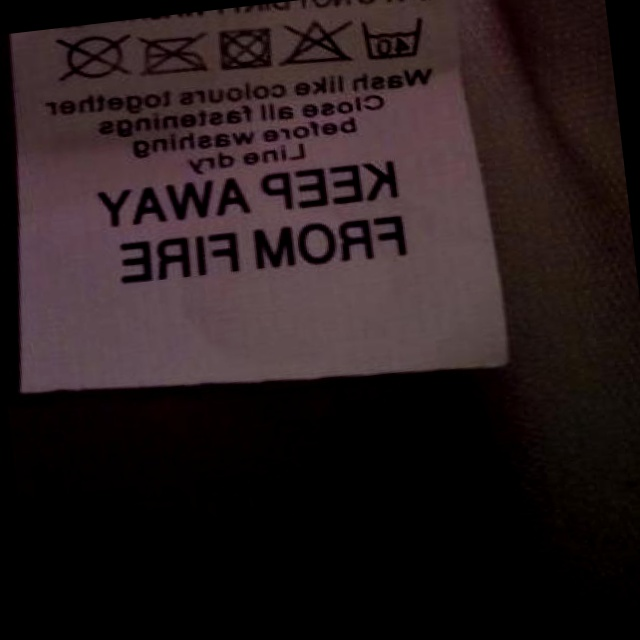40C: (357, 9, 427, 63)
DN_bleach: (278, 12, 357, 72)
DN_dry_clean: (54, 28, 133, 88)
DN_iron: (135, 27, 211, 81)
DN_tumble_dry: (213, 20, 279, 76)
